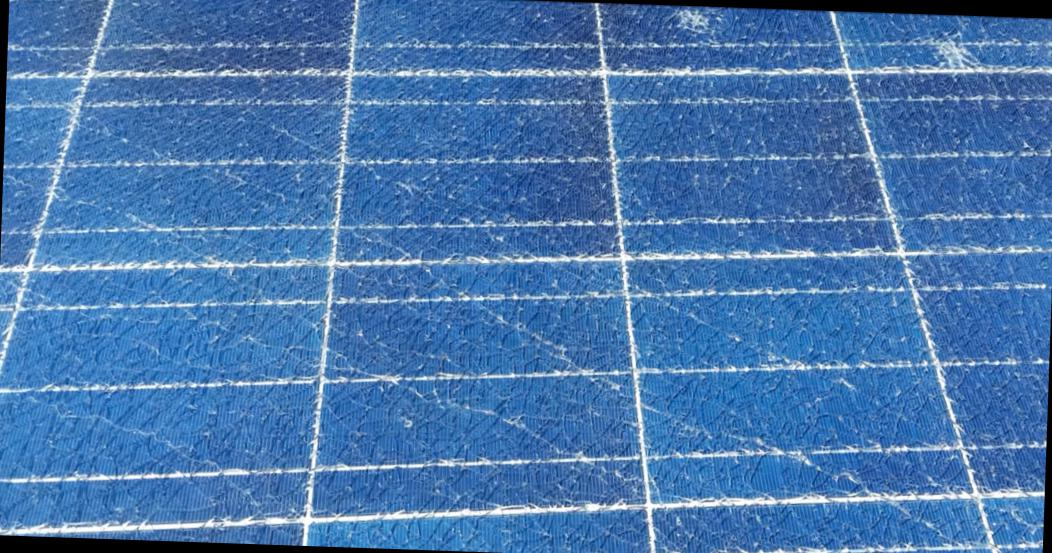Crack: (916, 20, 1010, 94), (658, 4, 726, 44)
